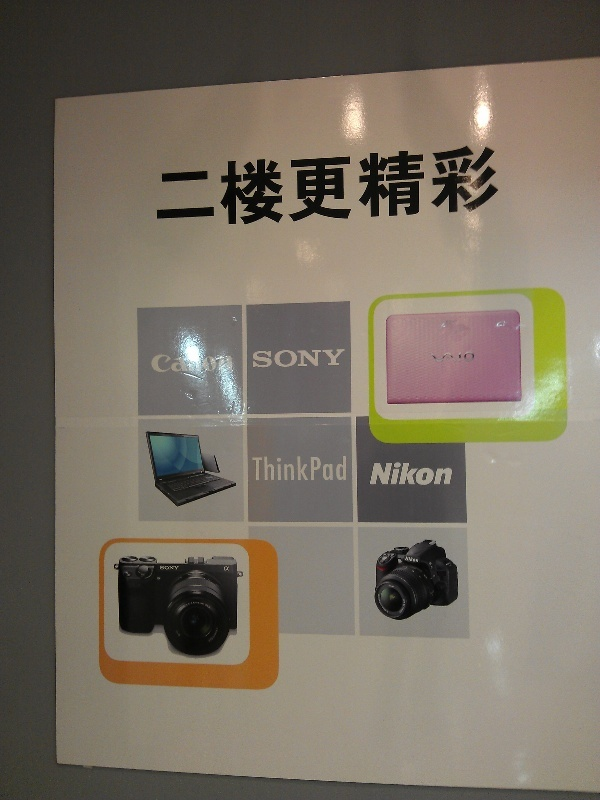text: (161, 146, 176, 230), (177, 146, 192, 230), (193, 146, 208, 230), (209, 146, 224, 230), (225, 146, 240, 230), (241, 146, 256, 230), (257, 146, 272, 230), (273, 146, 288, 230), (289, 146, 304, 230), (305, 146, 320, 230), (321, 146, 336, 230), (337, 146, 352, 230), (353, 146, 368, 230), (369, 146, 384, 230), (385, 146, 400, 230), (401, 146, 416, 230), (417, 146, 432, 230), (433, 146, 448, 230), (449, 146, 464, 230), (465, 146, 480, 230), (481, 146, 496, 230), (257, 456, 272, 481), (273, 456, 288, 481), (289, 456, 304, 481), (305, 456, 320, 481), (321, 456, 336, 481), (369, 462, 384, 485), (385, 462, 400, 485), (401, 462, 416, 485), (417, 462, 432, 485), (433, 462, 448, 485), (161, 351, 176, 374), (177, 351, 192, 374), (193, 351, 208, 374), (209, 351, 224, 374), (337, 456, 349, 481), (257, 349, 272, 368), (273, 349, 288, 368), (289, 349, 304, 368), (305, 349, 320, 368), (321, 349, 336, 368), (157, 146, 160, 230), (497, 146, 500, 230), (151, 351, 160, 374), (225, 351, 233, 374), (433, 352, 448, 364), (449, 352, 464, 364), (337, 349, 345, 368), (465, 352, 475, 364), (252, 456, 256, 481), (449, 462, 453, 485), (252, 349, 256, 368), (161, 566, 176, 571), (406, 556, 416, 563), (225, 566, 230, 572), (417, 556, 420, 563), (431, 352, 432, 364), (177, 566, 179, 571)
